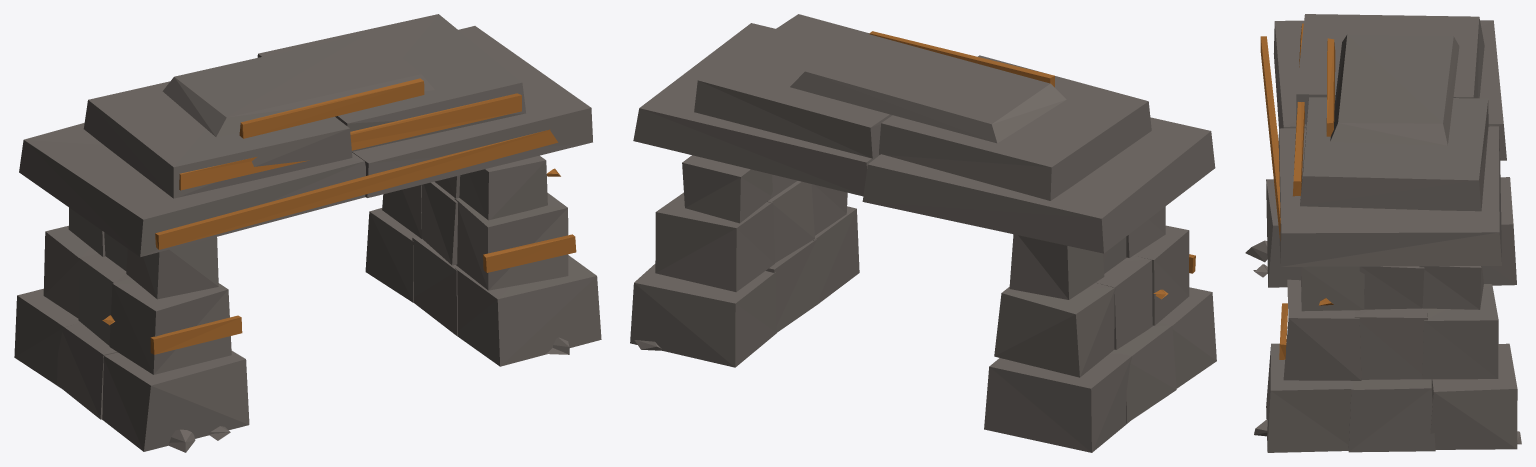
File: VL_AshShrine.fbx
The picture shows the model from 3 angles, left to right: view 1: azimuth 30°, elevation 25°; view 2: azimuth 150°, elevation 25°; view 3: azimuth 270°, elevation 25°; orthographic projection. The views are drawn at different scales.
Parts seen in each view (by area): view 1: VL_AshShrine_Stone, VL_AshShrine_Trim; view 2: VL_AshShrine_Stone, VL_AshShrine_Trim; view 3: VL_AshShrine_Stone, VL_AshShrine_Trim.
Boxes of the visible parts, x1=… form: VL_AshShrine_Stone: x1=14, y1=14, x2=601, y2=452; VL_AshShrine_Trim: x1=102, y1=78, x2=576, y2=354; VL_AshShrine_Stone: x1=630, y1=14, x2=1216, y2=452; VL_AshShrine_Trim: x1=869, y1=31, x2=1195, y2=299; VL_AshShrine_Stone: x1=1245, y1=14, x2=1521, y2=452; VL_AshShrine_Trim: x1=1260, y1=23, x2=1335, y2=359.
Bounding box in the file's own units: 28.34 × 16.13 × 15.26.
